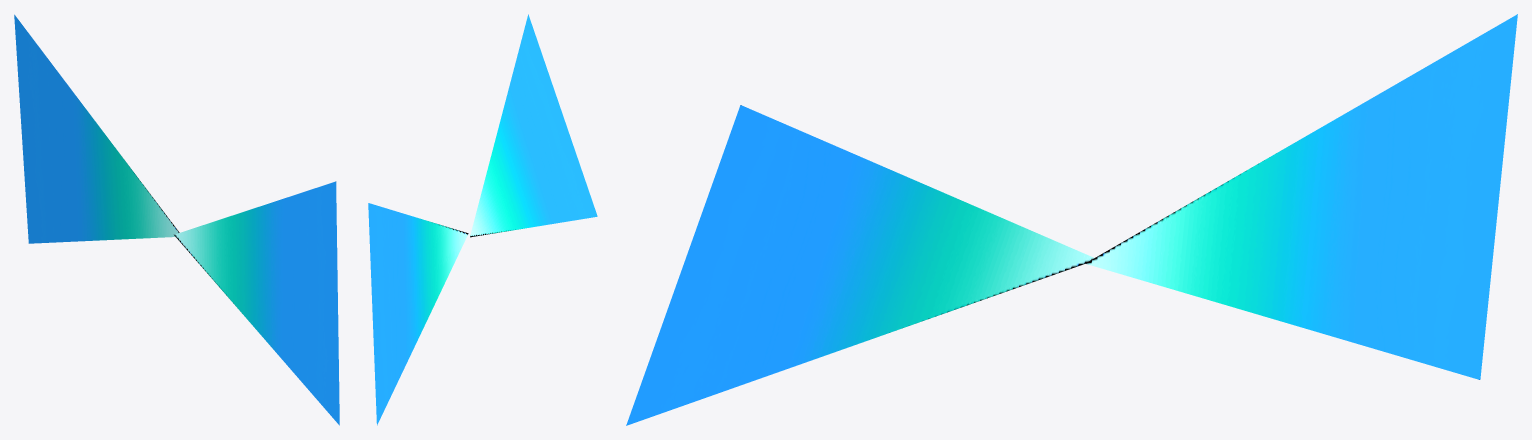
Rendered from lighttower.glb.
3 renders of one model, left to right at view 1: azimuth 30°, elevation 25°; view 2: azimuth 150°, elevation 25°; view 3: azimuth 270°, elevation 25°, orthographic. The views are drawn at different scales.
Parts seen in each view (by area): view 1: Plane.088; view 2: Plane.088; view 3: Plane.088.
Part boxes in pixels (left/top/right/bottom): Plane.088: left=14, top=14, right=339, bottom=425; Plane.088: left=368, top=14, right=597, bottom=425; Plane.088: left=626, top=14, right=1517, bottom=425.
Bounding box in the file's own units: 1.21 × 3.1 × 6.77.
Materials: 1 (1 with a texture image).
